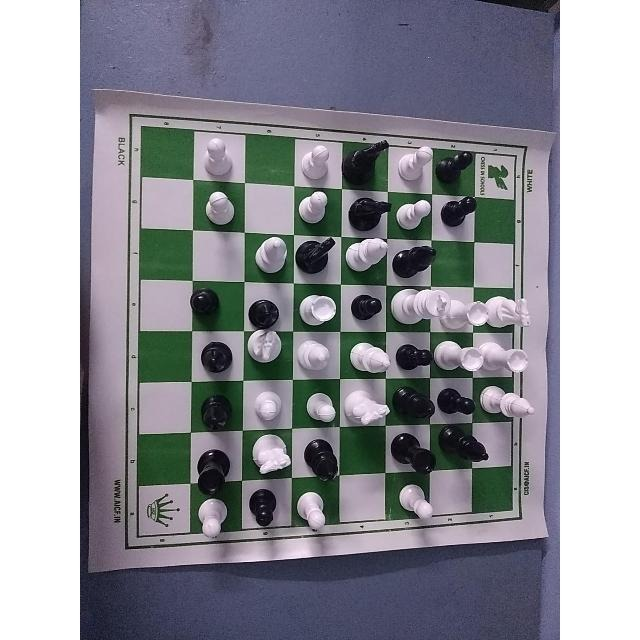black-bishop: (439, 427, 495, 475), (193, 385, 235, 432), (394, 379, 436, 425), (194, 330, 235, 377), (240, 290, 286, 331), (302, 439, 346, 481), (395, 236, 439, 278)
black-knight: (346, 128, 391, 185), (346, 185, 394, 231), (295, 230, 341, 276)
black-pawn: (180, 285, 236, 331), (441, 195, 484, 245), (248, 487, 292, 535), (438, 141, 480, 191), (392, 335, 432, 382), (348, 283, 384, 329), (436, 382, 477, 421)
black-rook: (188, 445, 238, 495), (390, 429, 434, 473)
white-bishop: (482, 383, 538, 424), (344, 337, 388, 380), (295, 334, 334, 382), (348, 231, 389, 275), (255, 230, 289, 276)
white-king: (390, 283, 445, 332)
white-knight: (248, 435, 295, 483), (490, 287, 534, 334), (246, 330, 290, 376), (346, 382, 390, 427)
white-pawn: (187, 500, 235, 546), (295, 384, 342, 428), (198, 180, 240, 229), (243, 382, 285, 430), (394, 136, 433, 187), (391, 483, 439, 524), (393, 194, 437, 235), (294, 491, 335, 535), (300, 140, 336, 186), (299, 185, 338, 227), (198, 136, 238, 176)
white-rook: (297, 283, 338, 329), (487, 339, 528, 380), (439, 340, 483, 375), (452, 285, 487, 329)
